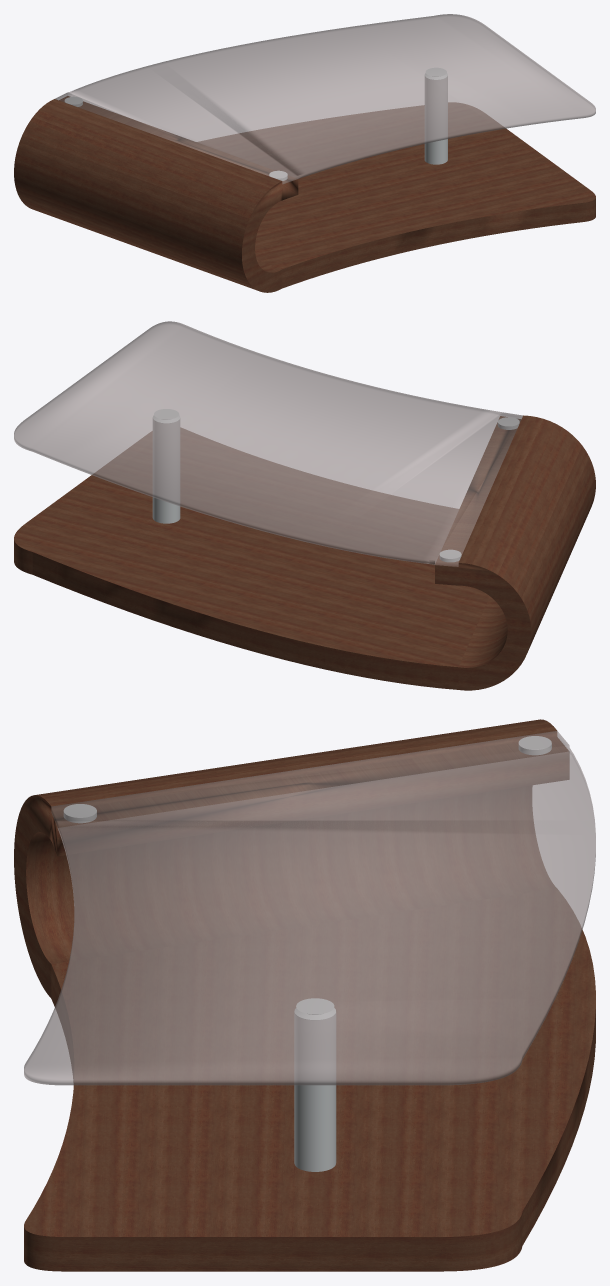
File: coffee_table.glb
3 renders of one model, top to bottom at view 1: azimuth 30°, elevation 25°; view 2: azimuth 150°, elevation 25°; view 3: azimuth 270°, elevation 25°, orthographic. The views are drawn at different scales.
Visible parts, largest first — view 1: SketchUp, SketchUp.007, SketchUp.010; view 2: SketchUp, SketchUp.007, SketchUp.010, SketchUp.004; view 3: SketchUp, SketchUp.007, SketchUp.010, SketchUp.004.
Part boxes in pixels (box(x1,y1,x2,y2)): SketchUp: box(14, 96, 595, 292); SketchUp.007: box(55, 14, 595, 184); SketchUp.010: box(424, 67, 447, 164); SketchUp: box(14, 415, 595, 690); SketchUp.007: box(14, 321, 522, 566); SketchUp.010: box(152, 409, 180, 523); SketchUp.004: box(439, 417, 519, 562); SketchUp: box(14, 719, 595, 1271); SketchUp.007: box(24, 731, 595, 1085); SketchUp.010: box(294, 998, 336, 1171); SketchUp.004: box(63, 736, 551, 823).
Bounding box in the file's own units: 17.85 × 4.07 × 11.17.
Materials: 3 (3 with a texture image).
